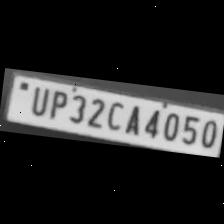0: (195, 114, 220, 148), (158, 106, 180, 140)
2: (83, 92, 105, 128)
3: (64, 90, 86, 124)
4: (140, 102, 162, 137)
5: (176, 110, 200, 145)
A: (120, 100, 144, 135)
C: (102, 96, 124, 130)
P: (45, 86, 69, 118)
U: (24, 82, 50, 116)
